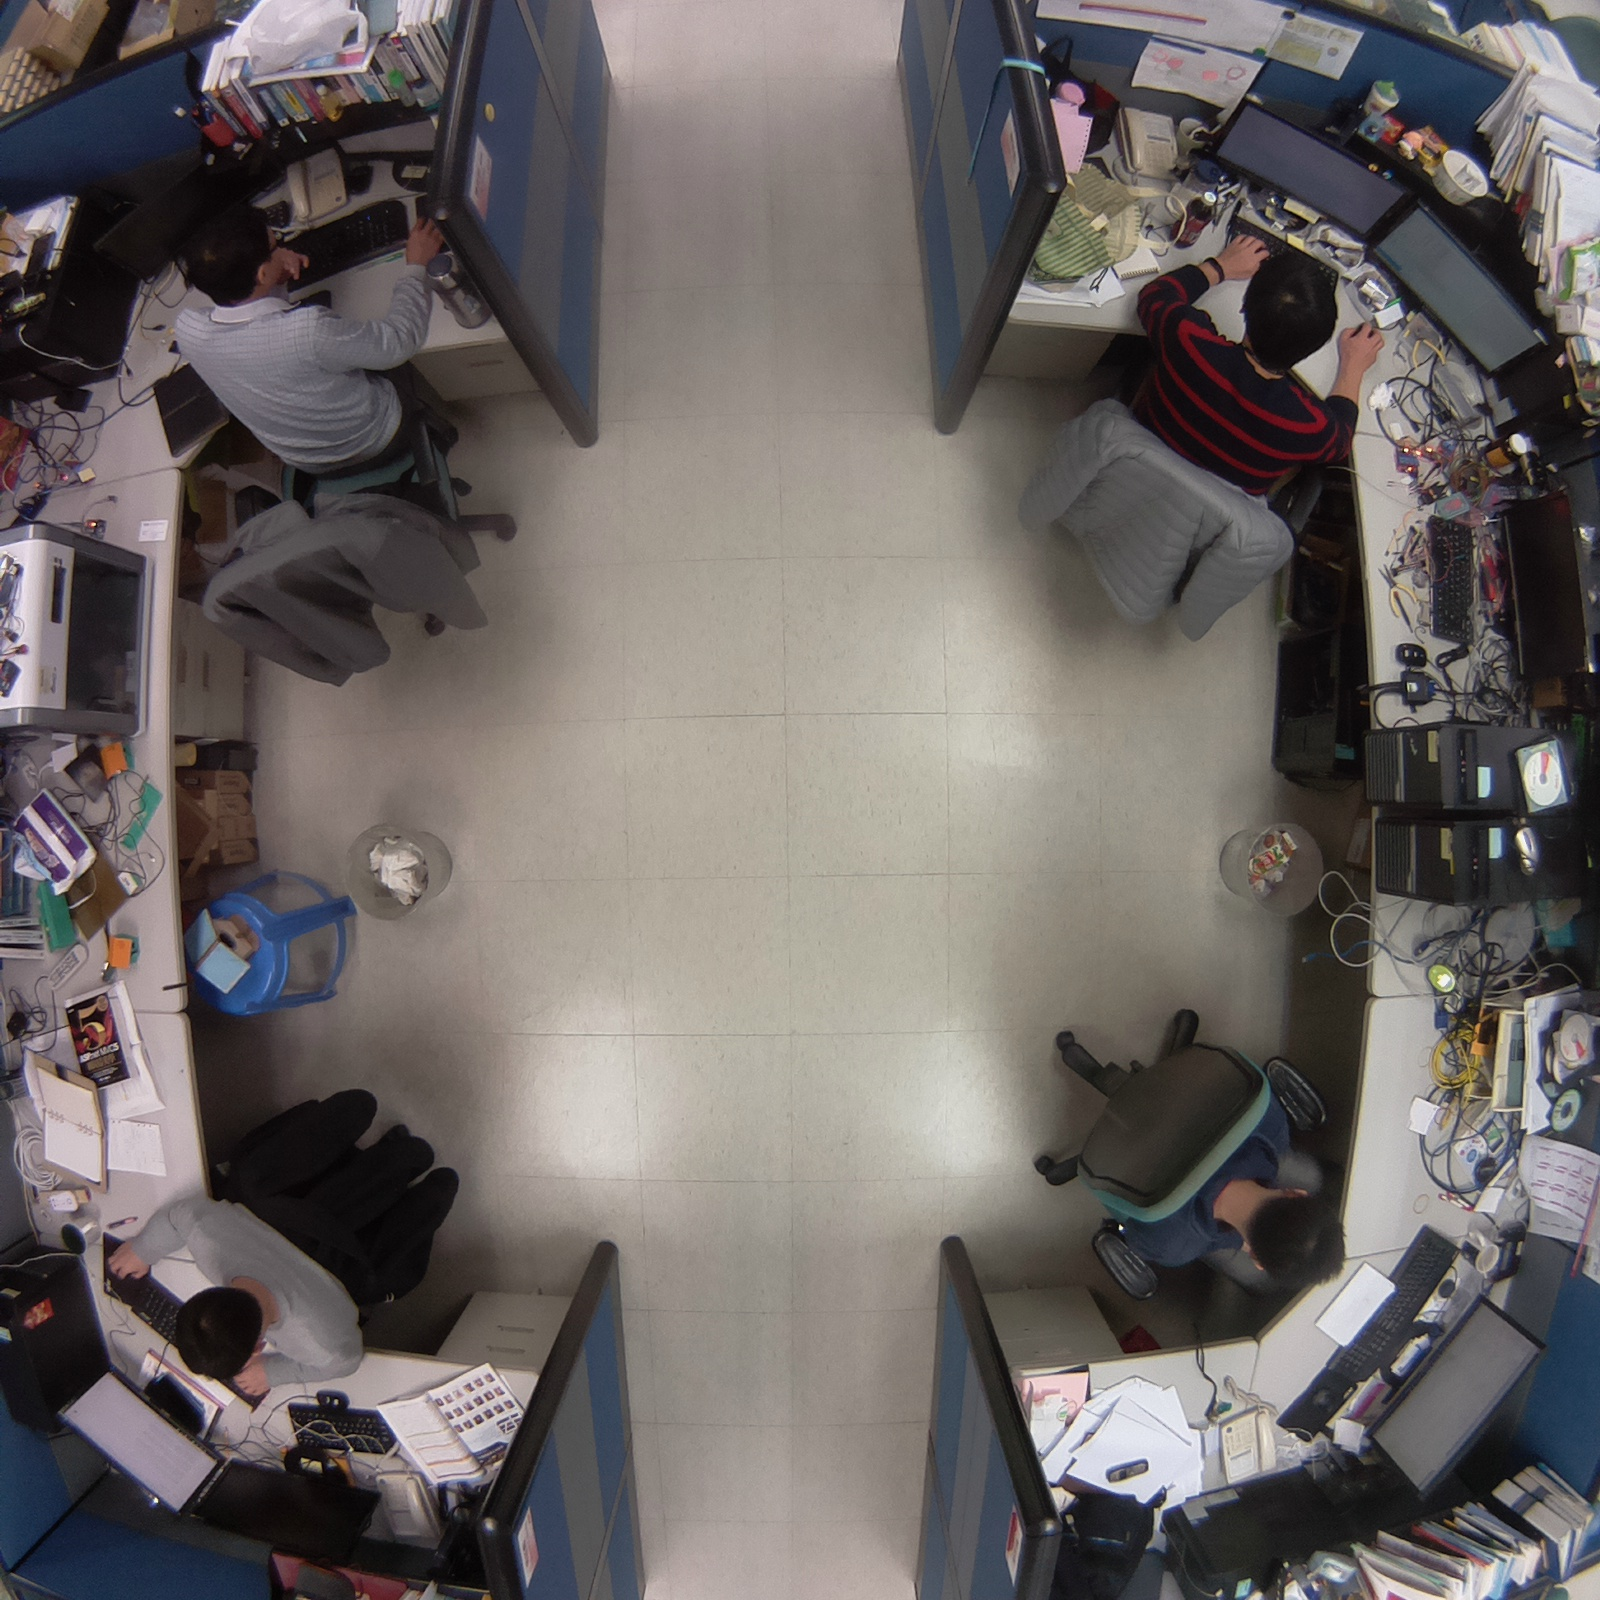sitting: (139, 188, 538, 702), (1004, 215, 1392, 659), (97, 1070, 472, 1415), (1012, 985, 1377, 1333)
